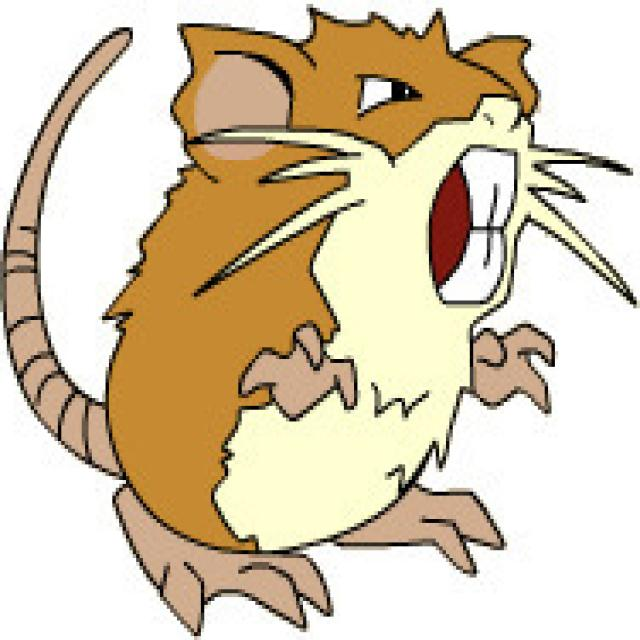Raticate: (95, 18, 555, 608)
